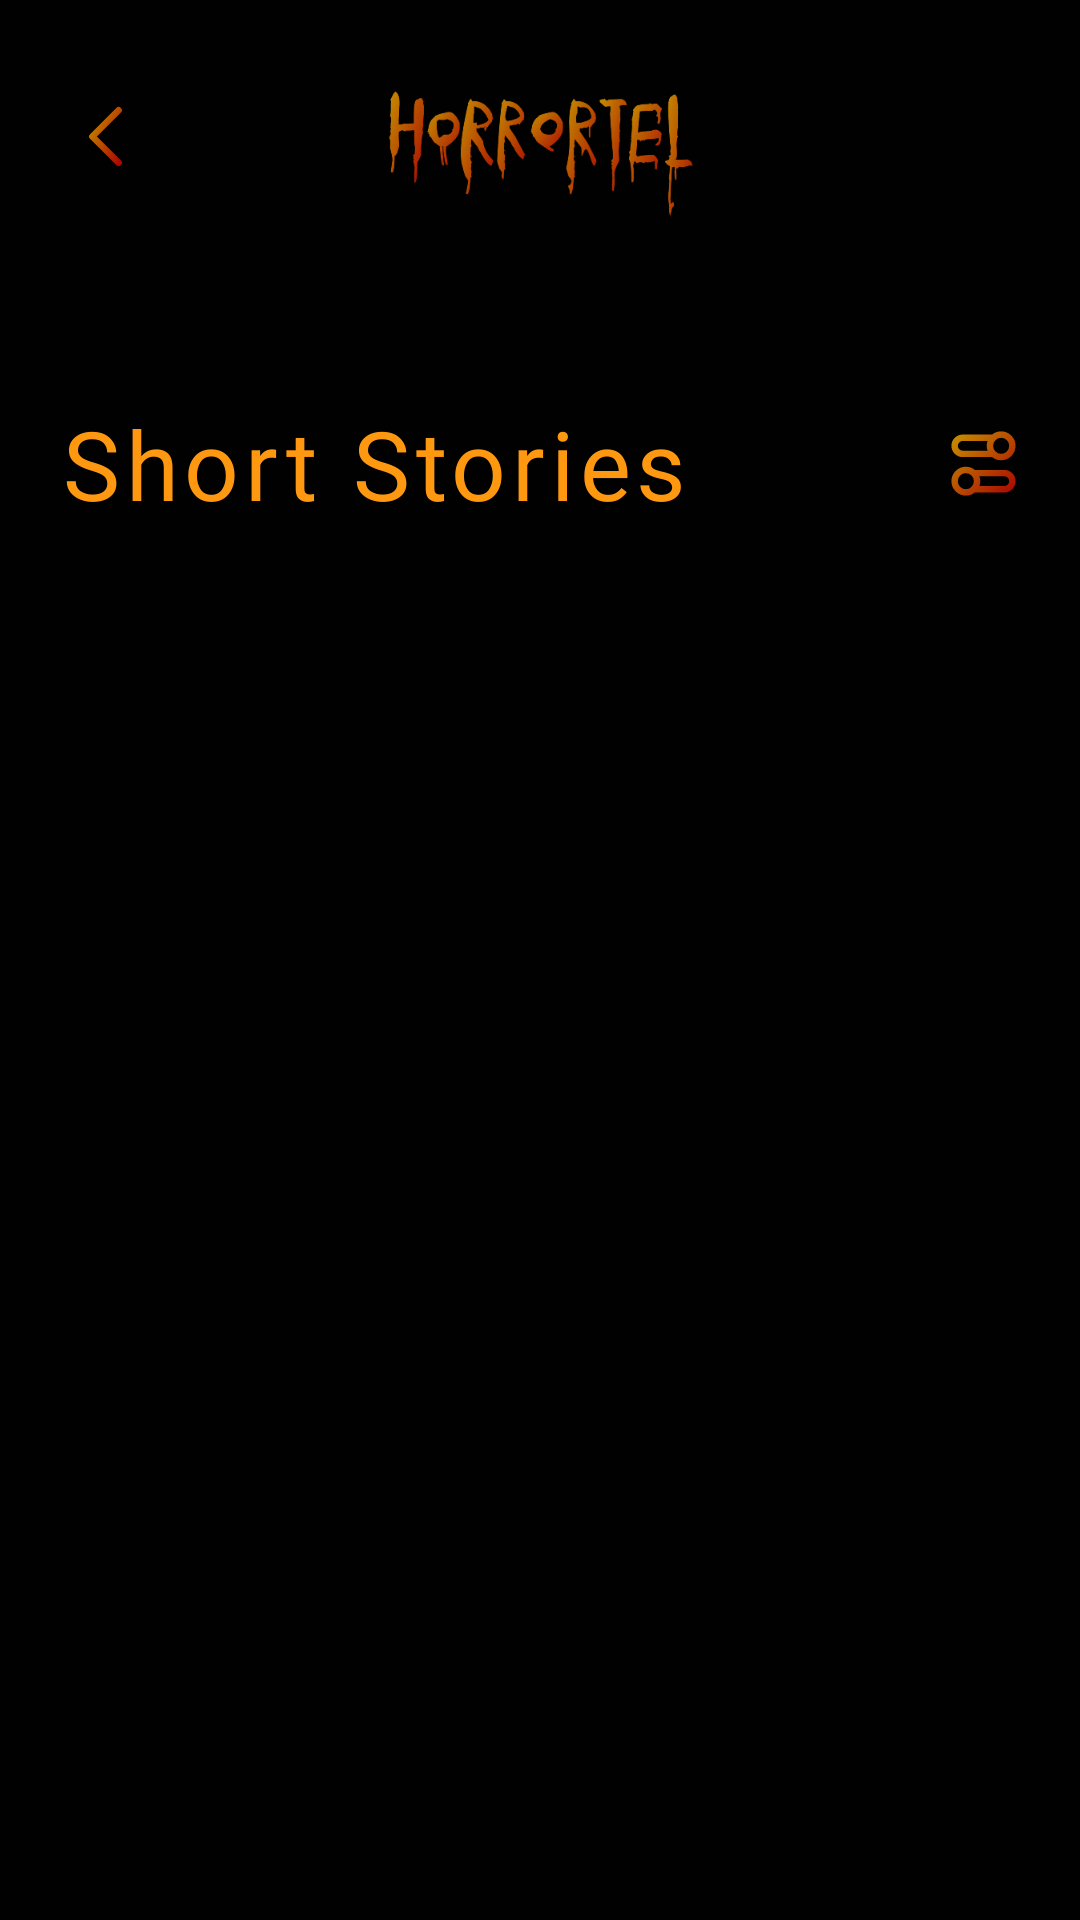

Icons on this 1080×1920 Android screen, each with the point to tap as point (x, y):
arrow left: point (105, 136)
sort: point (983, 463)
